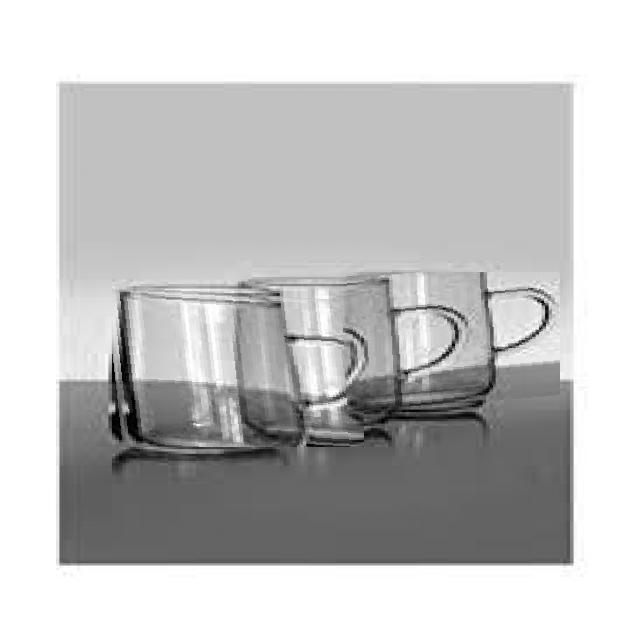Glass: (105, 286, 364, 447), (340, 272, 560, 414)
